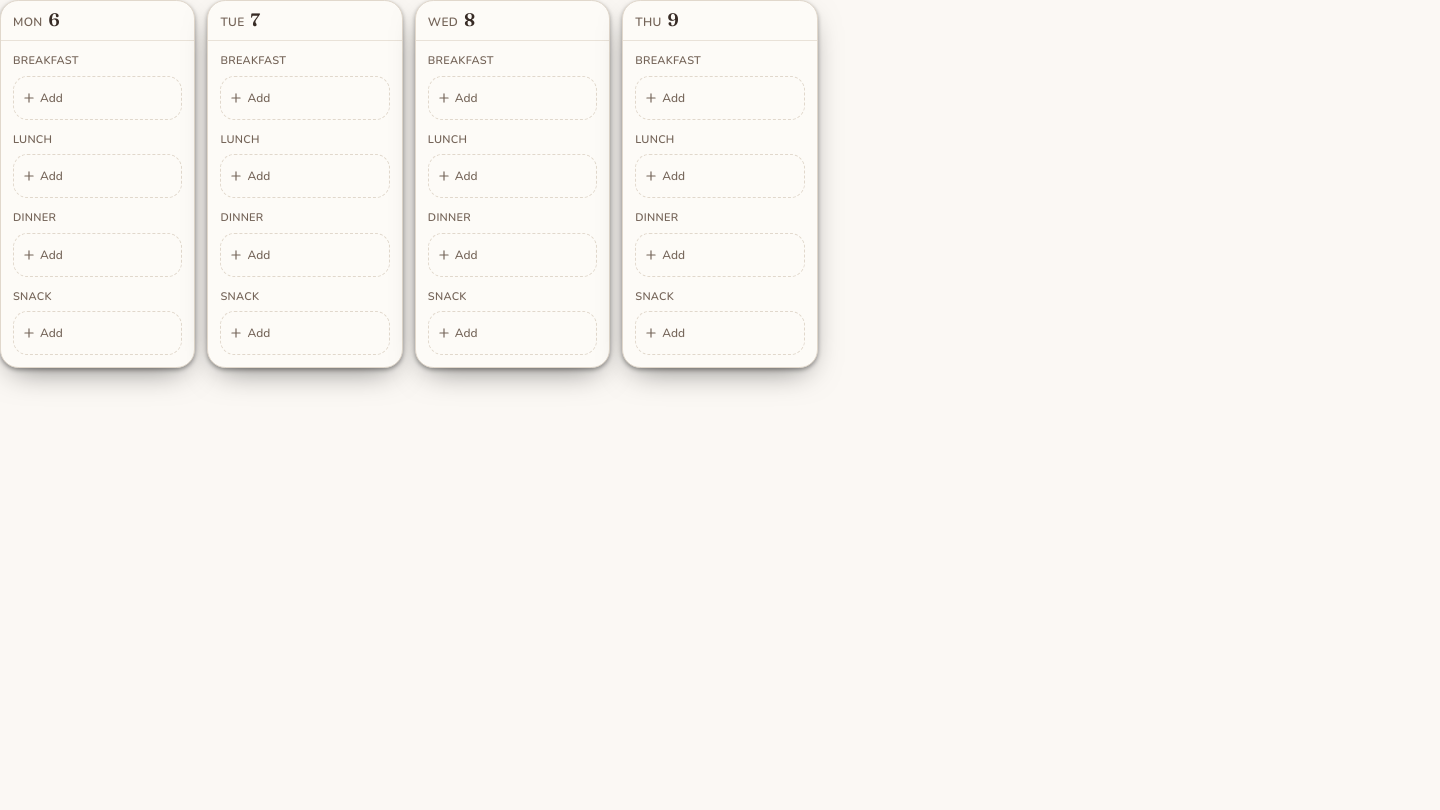
Test: PlannerBoard. Batch cook / leftovers (#380) › only offers leftover meals after the source meal
Click the button with aria-label "add to dinner on wednesday, jul 8" at (512, 254), box [428,232,597,276]
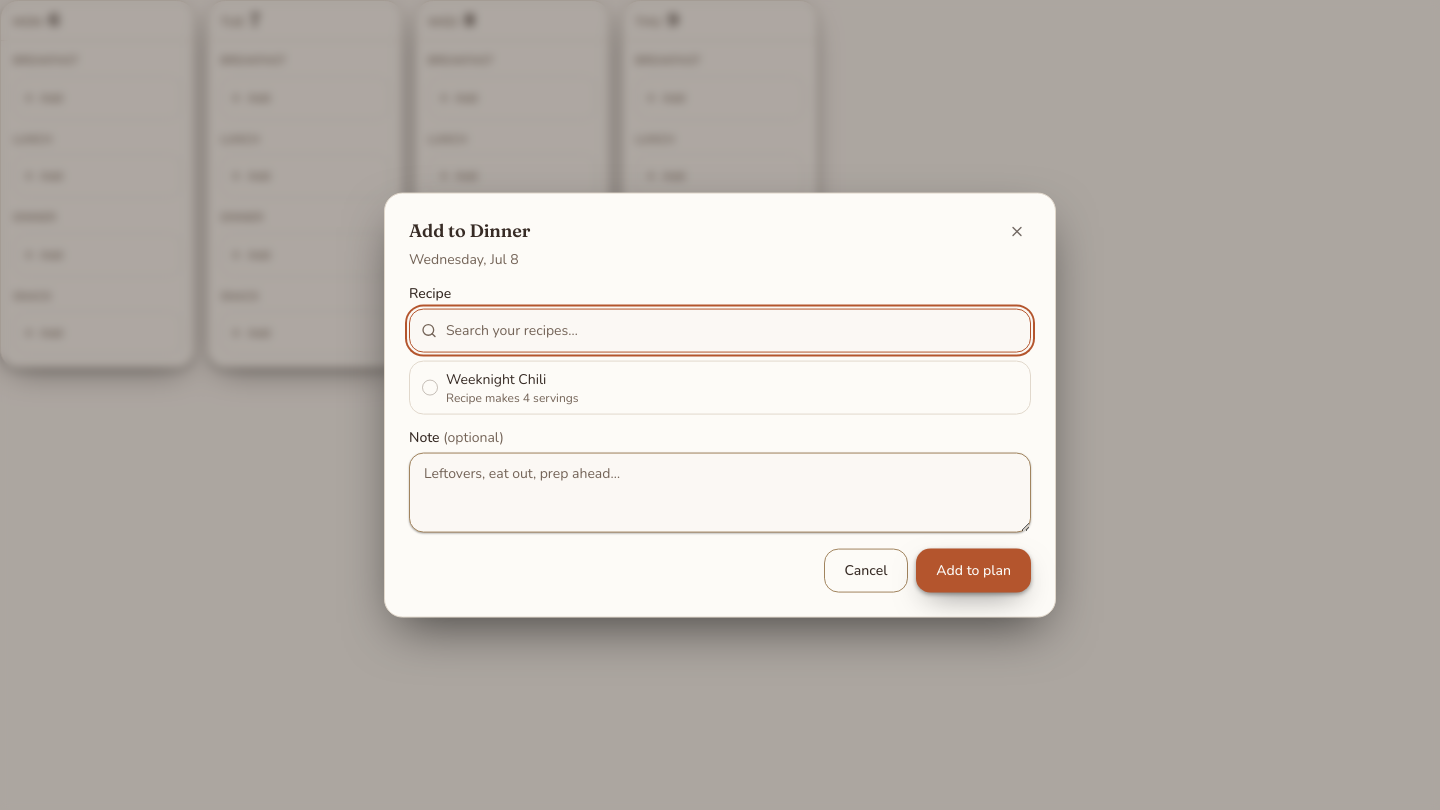
Click the button "Weeknight Chili Recipe makes 4 servings" at (496, 379), box [410,361,1030,413]
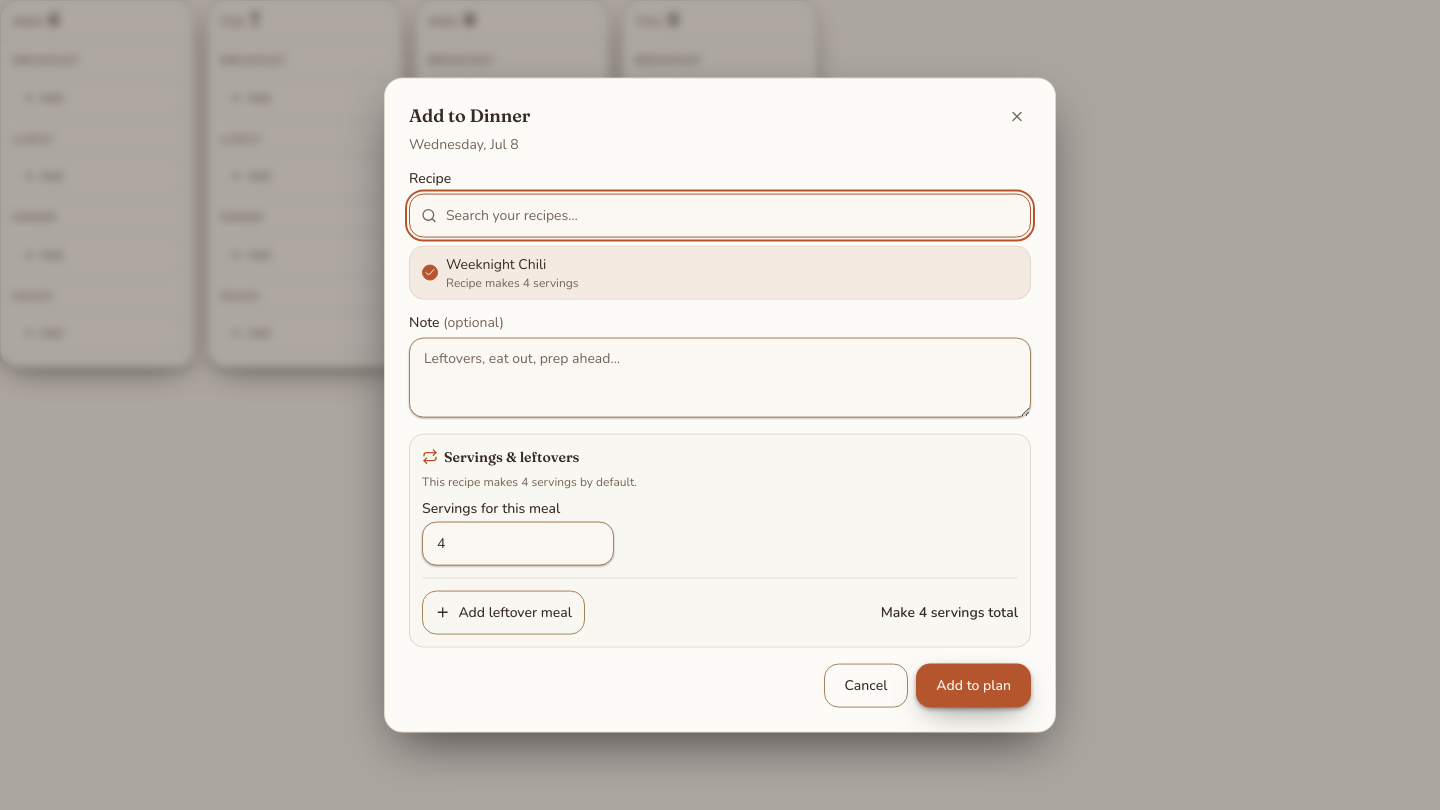
Click the button "Add leftover meal" at (504, 612), box [422,590,585,634]
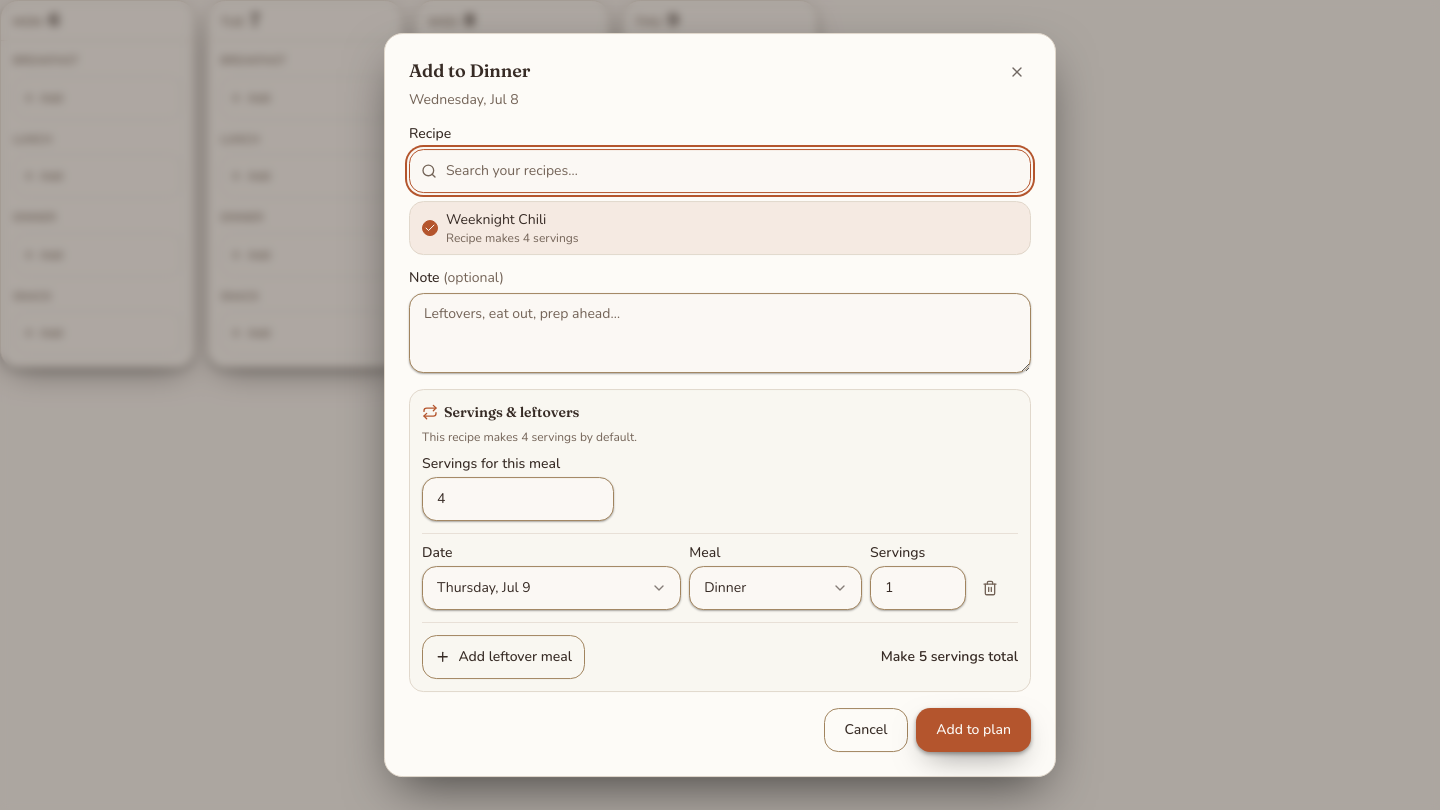
Expected: the dropdown labelled "Date" shows "Thursday, Jul 9"
Select "Wednesday, Jul 8" in the dropdown labelled "Date" at (552, 588), box [422,566,681,610]
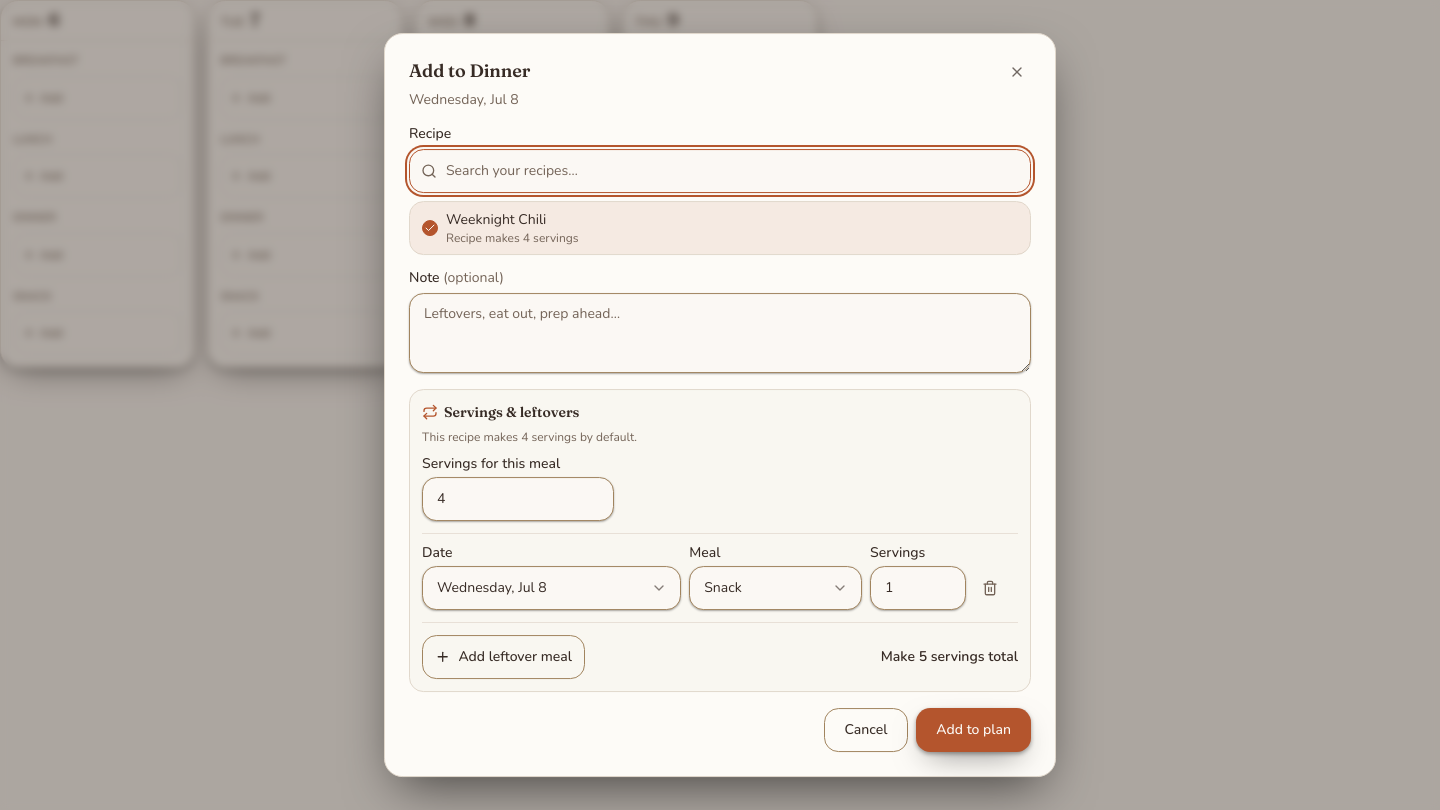
Expected: the dropdown labelled "Meal" shows "Snack", [689,566,862,610]
